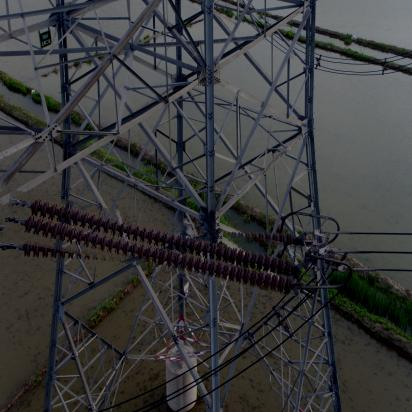insulator: (3, 204, 306, 283)
